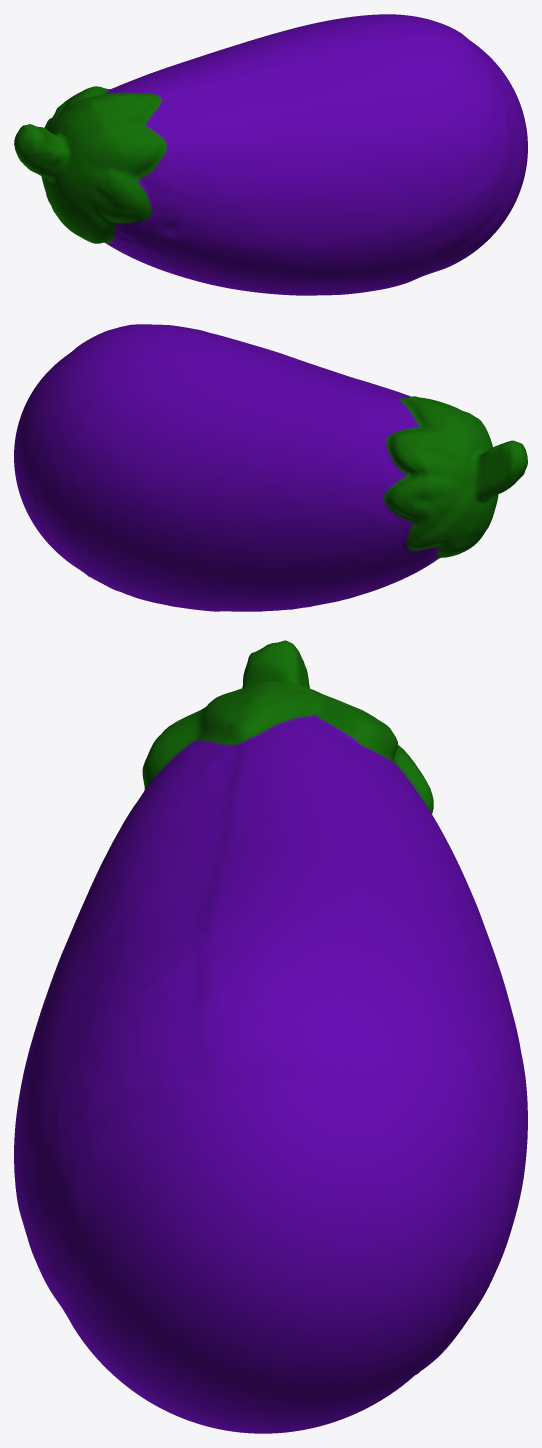
Rendered from eggplant.glb.
The picture shows the model from 3 angles, top to bottom: view 1: azimuth 30°, elevation 25°; view 2: azimuth 150°, elevation 25°; view 3: azimuth 270°, elevation 25°; orthographic projection. The views are drawn at different scales.
Parts seen in each view (by area): view 1: eggplant; view 2: eggplant; view 3: eggplant.
Part boxes in pixels (x1=…): eggplant: x1=14, y1=14, x2=527, y2=295; eggplant: x1=14, y1=324, x2=527, y2=611; eggplant: x1=14, y1=640, x2=527, y2=1433.
Bounding box in the file's own units: 7.83 × 3.79 × 3.74.
1 material, 1 textured.
